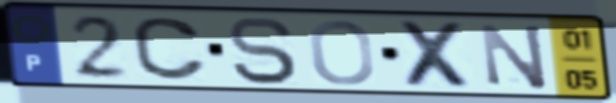2: (67, 12, 132, 81)
C: (129, 15, 212, 83)
N: (476, 22, 551, 93)
O: (305, 17, 378, 87)
S: (226, 14, 301, 87)
X: (393, 18, 481, 91)
